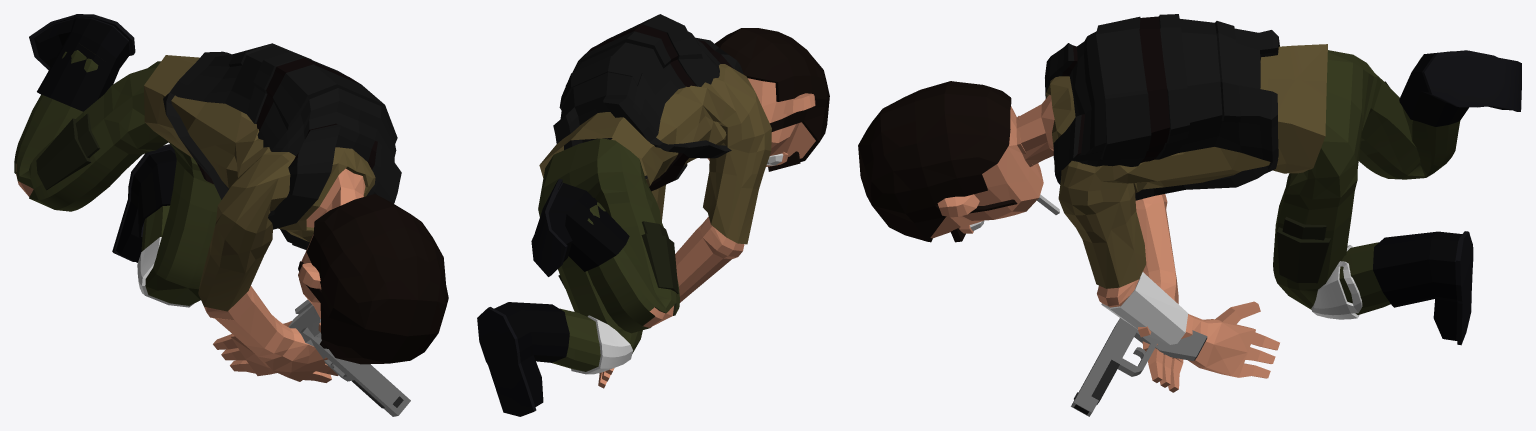
The model's file is frame_0022.obj.
The picture shows the model from 3 angles, left to right: view 1: azimuth 30°, elevation 25°; view 2: azimuth 150°, elevation 25°; view 3: azimuth 270°, elevation 25°; orthographic projection. The views are drawn at different scales.
Parts seen in each view (by area): view 1: Body, Gun; view 2: Body; view 3: Body, Gun.
Part boxes in pixels (x1=…): Body: x1=14, y1=14, x2=448, y2=382; Gun: x1=300, y1=327, x2=410, y2=416; Body: x1=477, y1=14, x2=829, y2=416; Body: x1=858, y1=14, x2=1521, y2=392; Gun: x1=1071, y1=318, x2=1207, y2=416.
Bounding box in the file's own units: 1.41 × 2.04 × 3.4.
